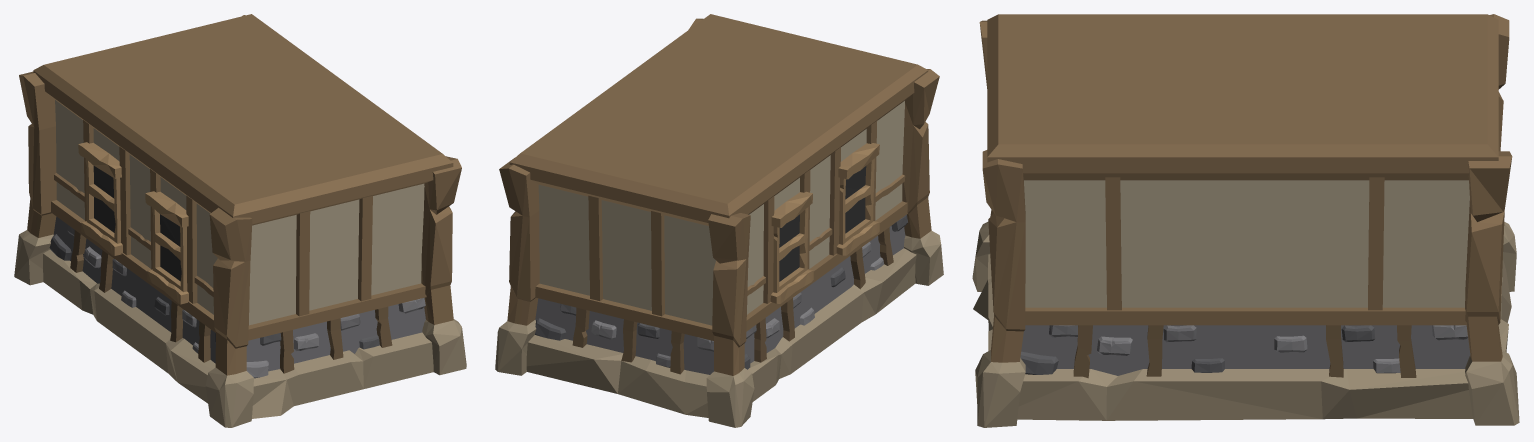
File: SM_Bld_House_Foundation_04.gltf
3 views of the same model, side by side, from view 1: azimuth 30°, elevation 25°; view 2: azimuth 150°, elevation 25°; view 3: azimuth 270°, elevation 25° (orthographic). The views are drawn at different scales.
Parts seen in each view (by area): view 1: SM_Bld_House_Foundation_04; view 2: SM_Bld_House_Foundation_04; view 3: SM_Bld_House_Foundation_04.
Part boxes in pixels (x1,y1,x2,y2): SM_Bld_House_Foundation_04: (14, 14, 466, 427); SM_Bld_House_Foundation_04: (495, 14, 943, 427); SM_Bld_House_Foundation_04: (972, 14, 1519, 427).
Bounding box in the file's own units: 3.43 × 2.81 × 5.12.
Materials: 1 (1 with a texture image).
